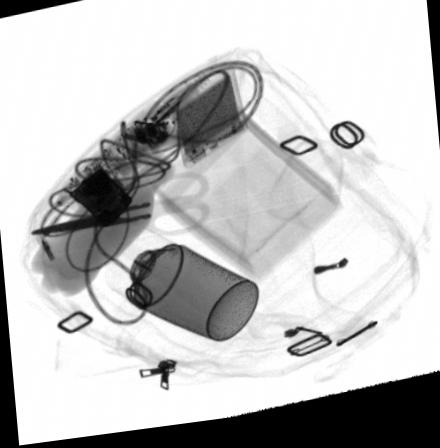Lighter: (66, 168, 135, 229)
Powerbank: (167, 70, 250, 173)
Scissors: (28, 176, 211, 241)
Sprayer: (127, 249, 259, 348)
